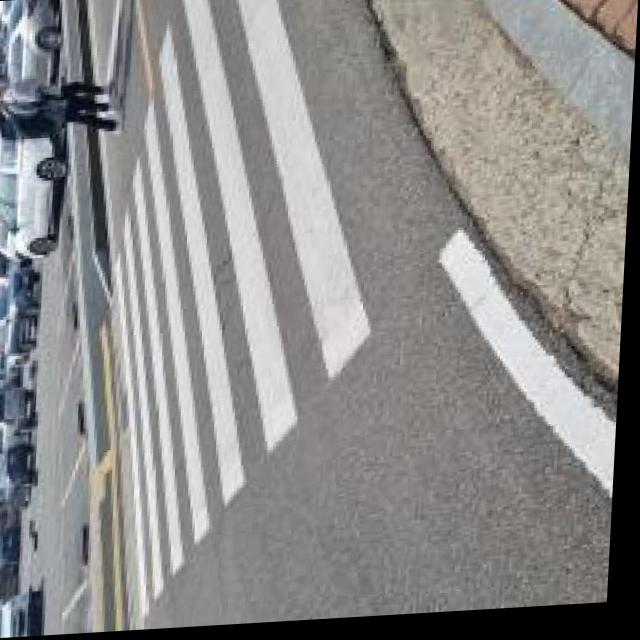zebra: (120, 7, 398, 579)
